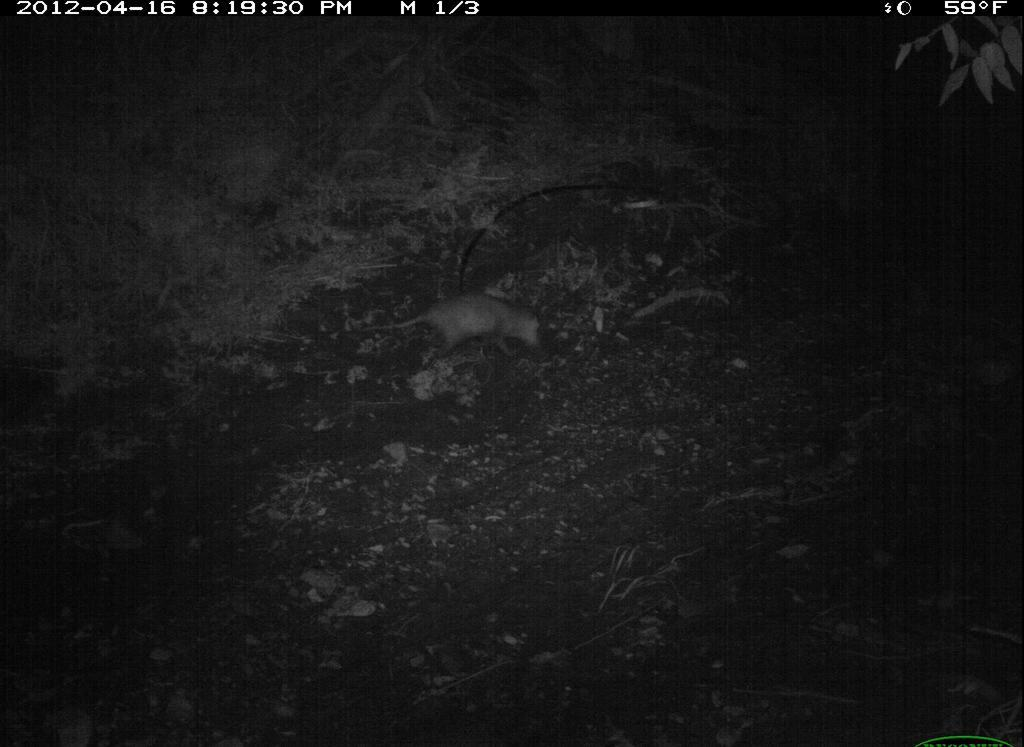opossum: (351, 294, 562, 373)
